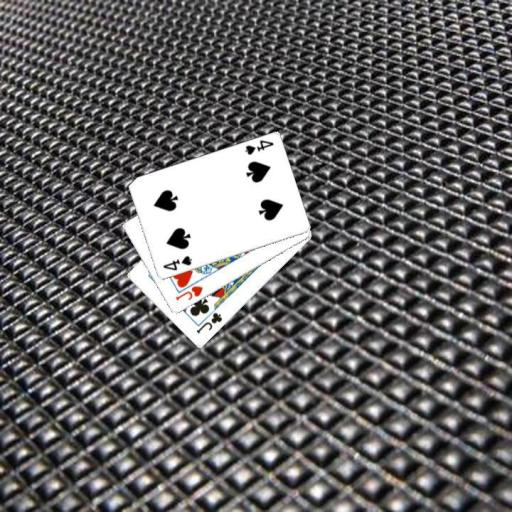4S: (160, 254, 194, 273), (242, 138, 275, 157)
JC: (193, 309, 224, 335)
JH: (172, 283, 204, 302)
